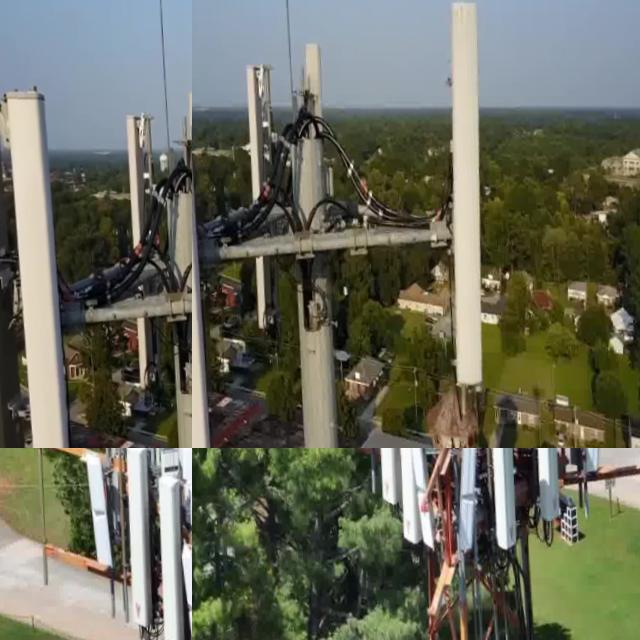GSM Antenna: (0, 83, 95, 448), (0, 35, 43, 448), (120, 105, 174, 391), (451, 0, 491, 384), (242, 59, 284, 339), (300, 36, 340, 243), (117, 448, 162, 630), (148, 461, 192, 640), (387, 448, 436, 555), (481, 448, 530, 549), (83, 448, 119, 572), (529, 448, 573, 518), (181, 86, 192, 331), (369, 448, 410, 502), (178, 533, 192, 640)
